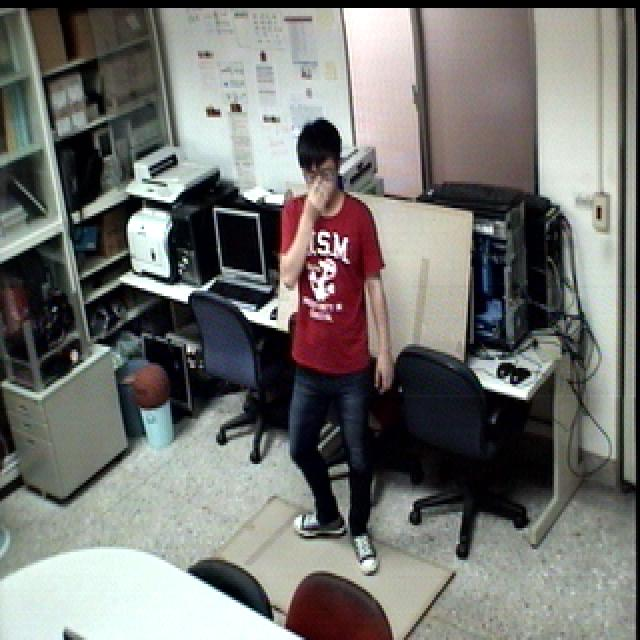stand: (266, 114, 402, 587)
